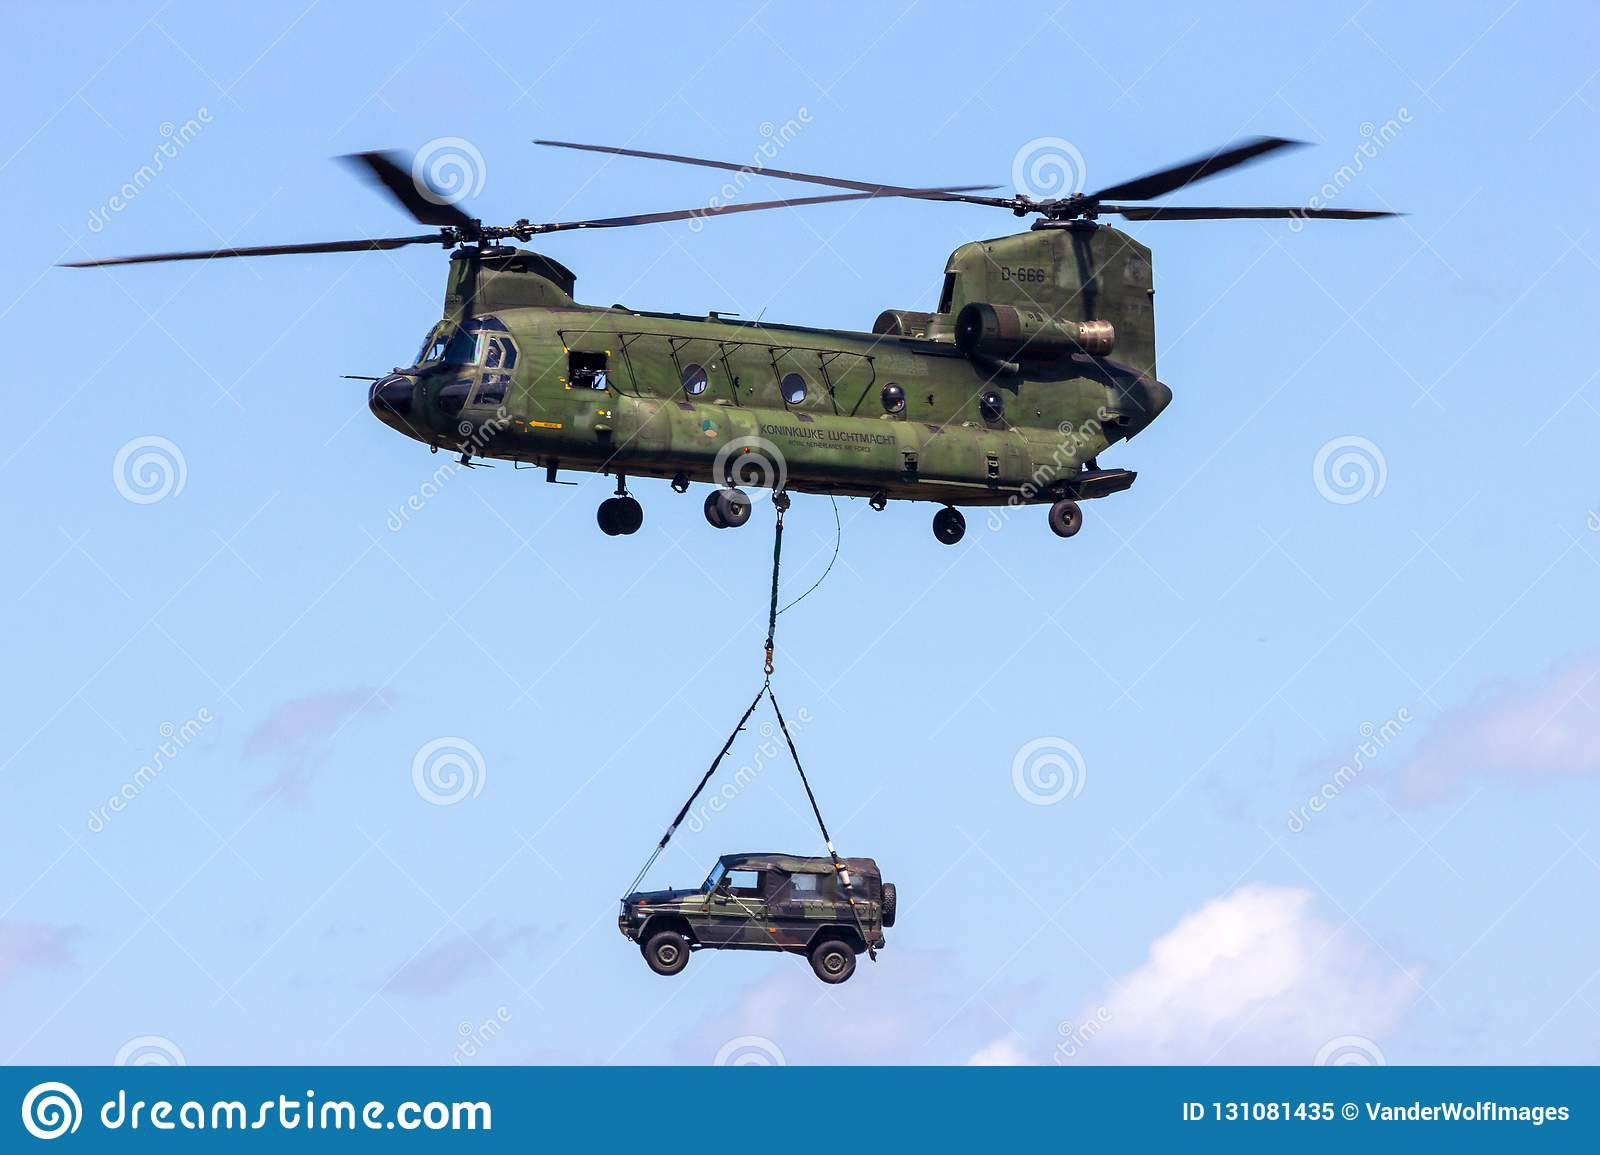HMMWV: (604, 840, 911, 999)
chinook: (309, 147, 1248, 604)
